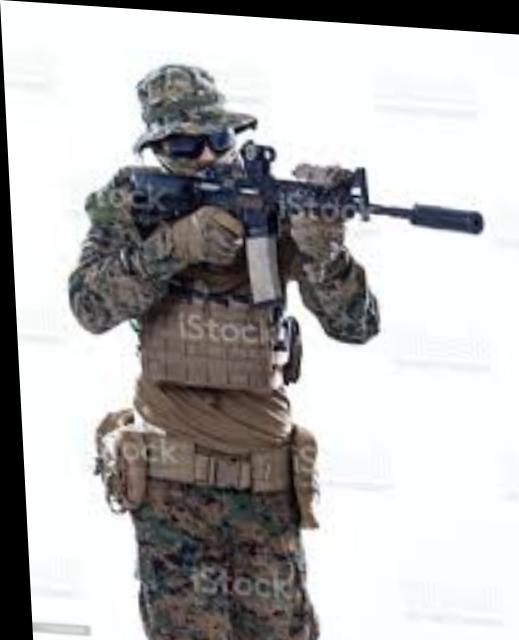other: (47, 53, 387, 640)
